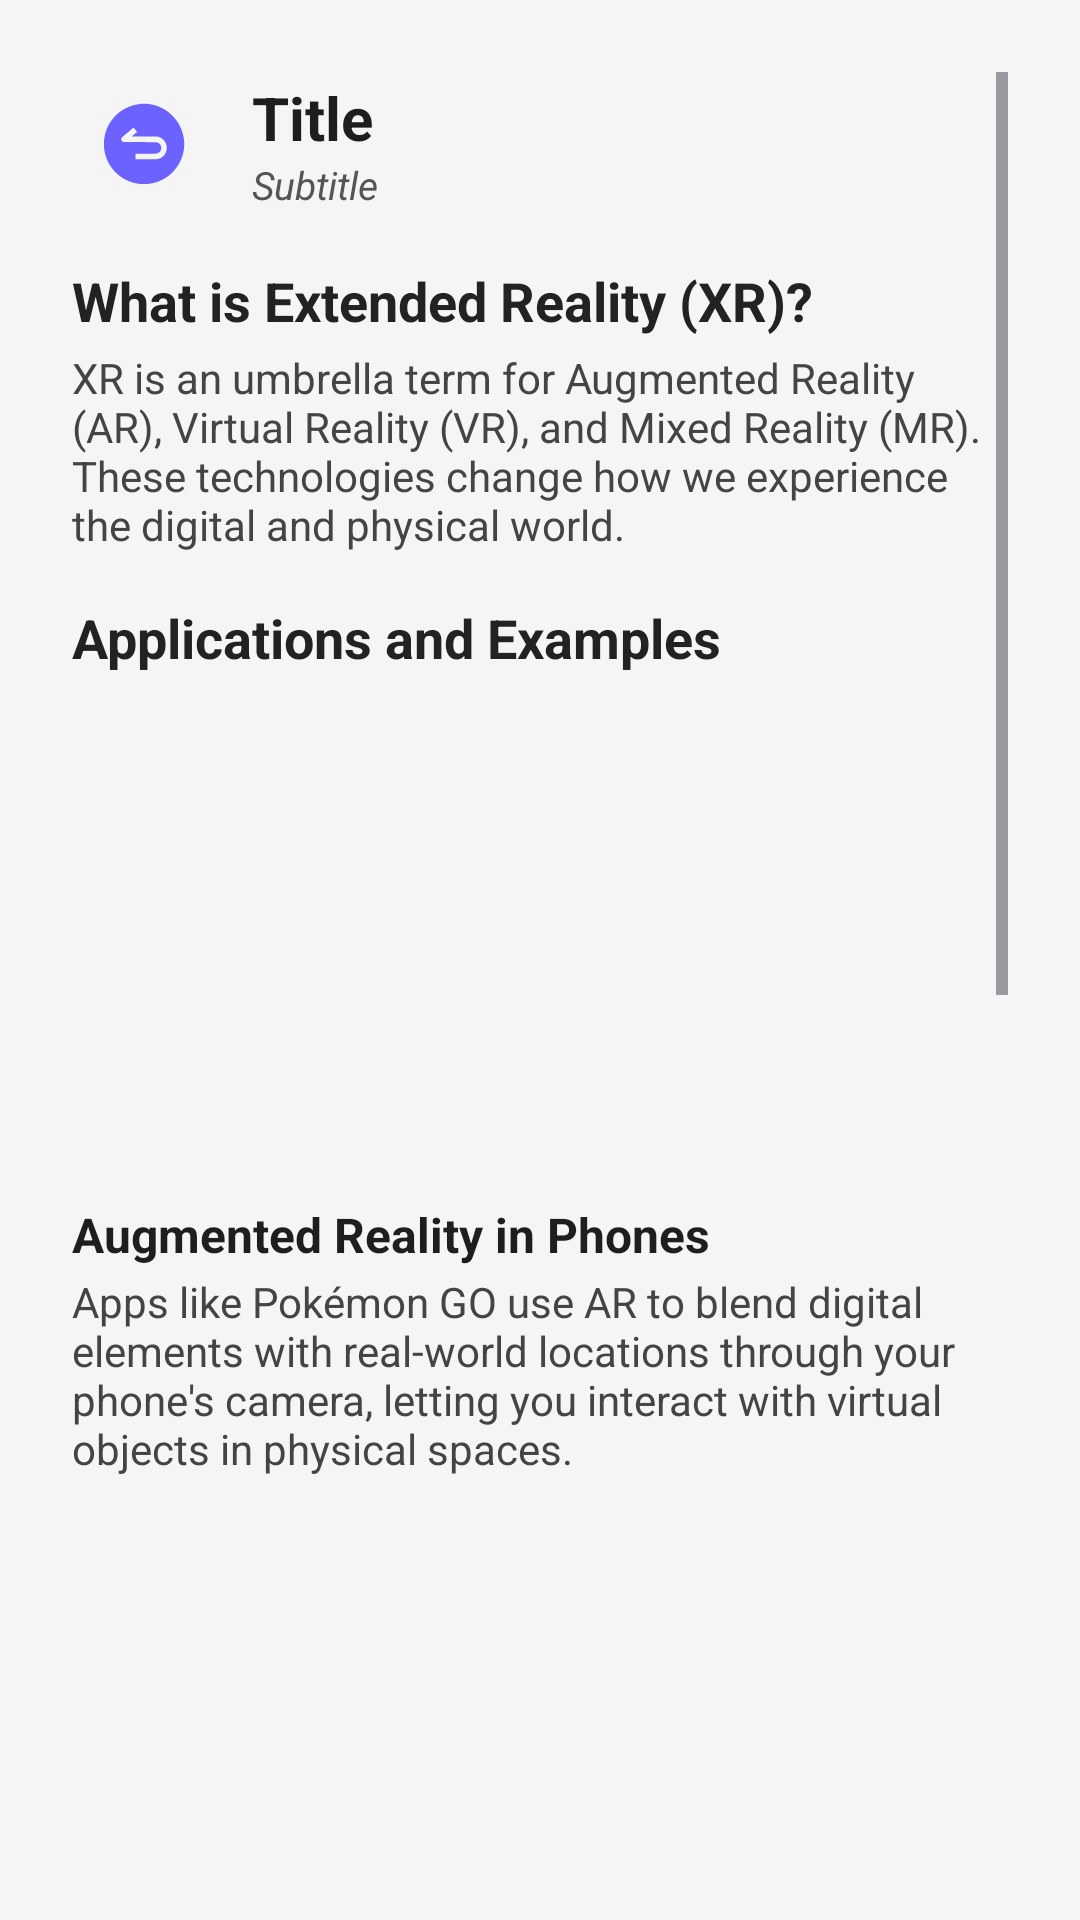

Screen size 1080px×1920px. Icon name, then its box in pixels as (x1, y1, x2, y2):
Back: (104, 103, 185, 185)
